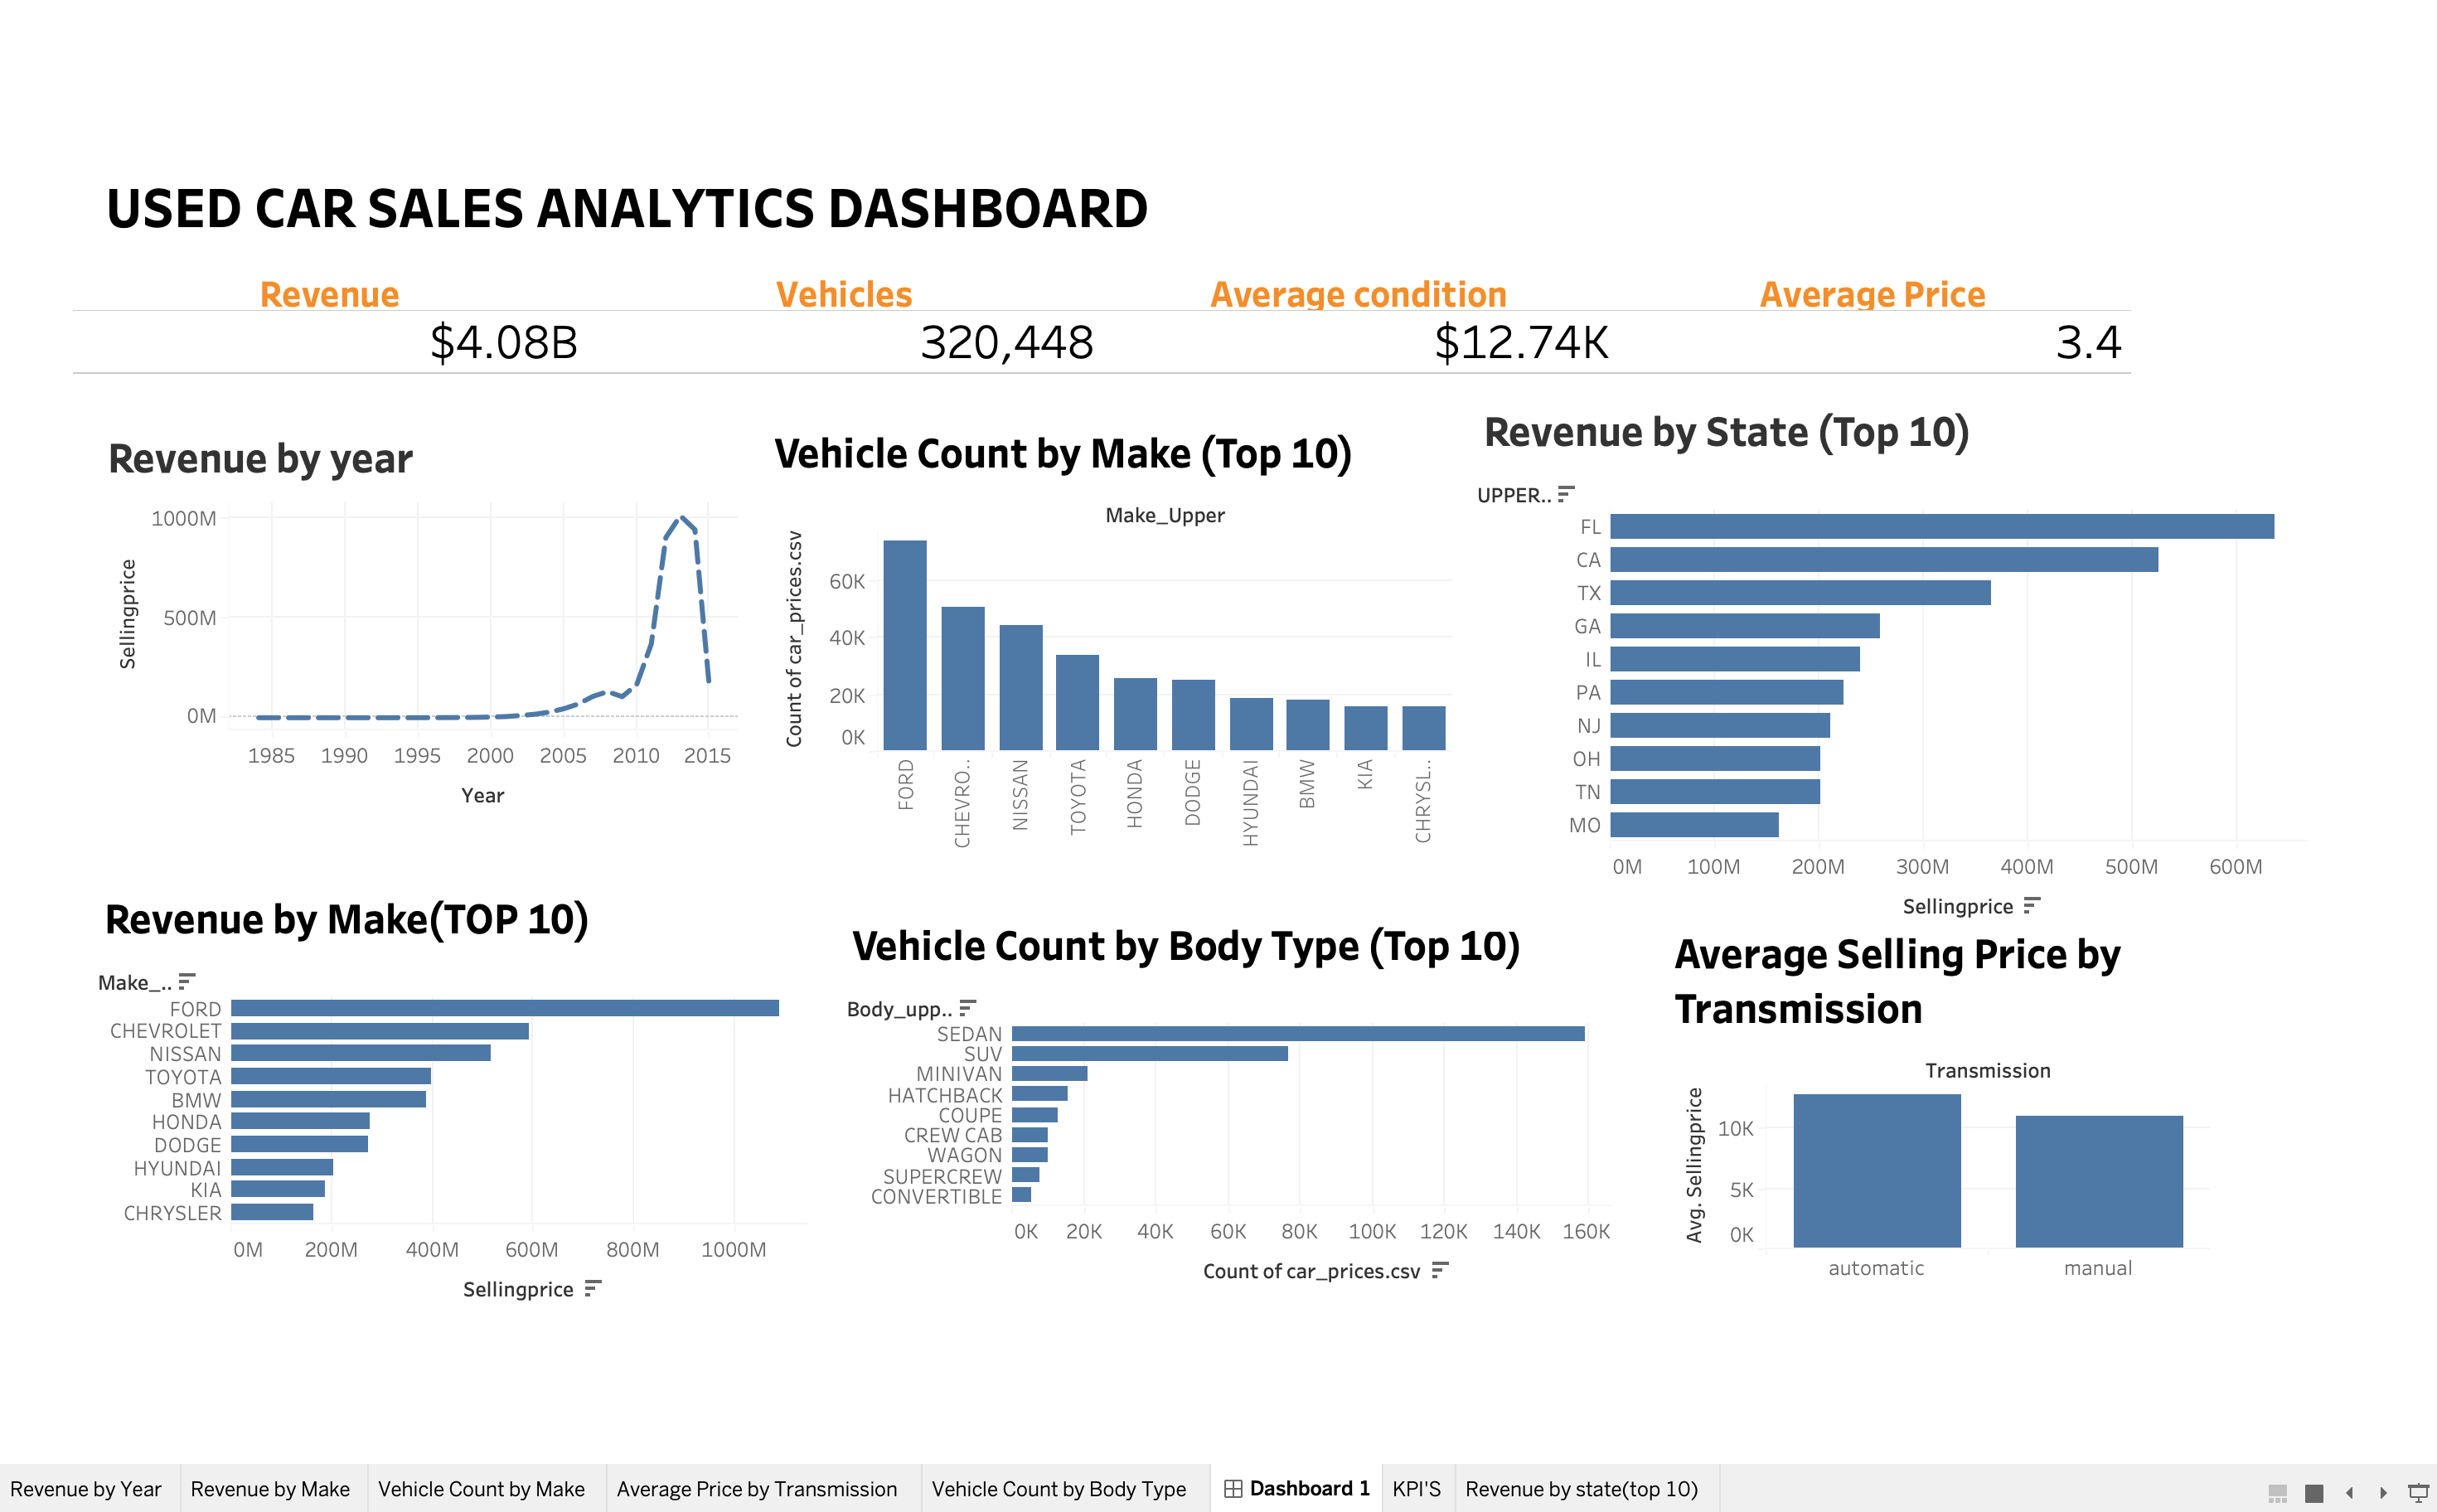

This screenshot's page, from the dashboard's own definition file:
{"tool":"tableau","page":{"name":"Dashboard 1","canvas":[1380,700],"ordinal":0},"visuals":[{"type":"text","box":[12,12,1356,52]},{"type":"worksheet","title":"Revenue by state(top 10)","mark":"Automatic","rows":["Calculation_2805554395013134"],"cols":["sellingprice"],"box":[846,153,501,323]},{"type":"worksheet","title":"Vehicle Count by Make","mark":"Bar","rows":["car_prices.csv_F6CE493B037047AF8A062DE1898A6181"],"cols":["Calculation_2805553339895808"],"box":[418,166,413,261]},{"type":"worksheet","title":"Revenue by Year","mark":"Line","rows":["sellingprice"],"cols":["year"],"box":[16,169,384,240]},{"type":"worksheet","title":"Vehicle Count by Body Type","mark":"Automatic","rows":["Calculation_2805554346438669"],"cols":["car_prices.csv_F6CE493B037047AF8A062DE1898A6181"],"box":[465,463,463,233]},{"type":"worksheet","title":"Average Price by Transmission","mark":"Automatic","rows":["sellingprice"],"cols":["transmission"],"box":[961,468,327,220]}]}

Visuals, with their boxes on the page's 1380x700 design canvas (x1, y1, x2, y2). These are canvas units, not pixel positions in the 2437x1512 screenshot, which may show the page scaled, cropped or inside an application window:
text: {"x1": 12, "y1": 12, "x2": 1368, "y2": 64}
"Revenue by state(top 10)" worksheet: {"x1": 846, "y1": 153, "x2": 1347, "y2": 476}
"Vehicle Count by Make" worksheet (Bar marks): {"x1": 418, "y1": 166, "x2": 831, "y2": 427}
"Revenue by Year" worksheet (Line marks): {"x1": 16, "y1": 169, "x2": 400, "y2": 409}
"Vehicle Count by Body Type" worksheet: {"x1": 465, "y1": 463, "x2": 928, "y2": 696}
"Average Price by Transmission" worksheet: {"x1": 961, "y1": 468, "x2": 1288, "y2": 688}
